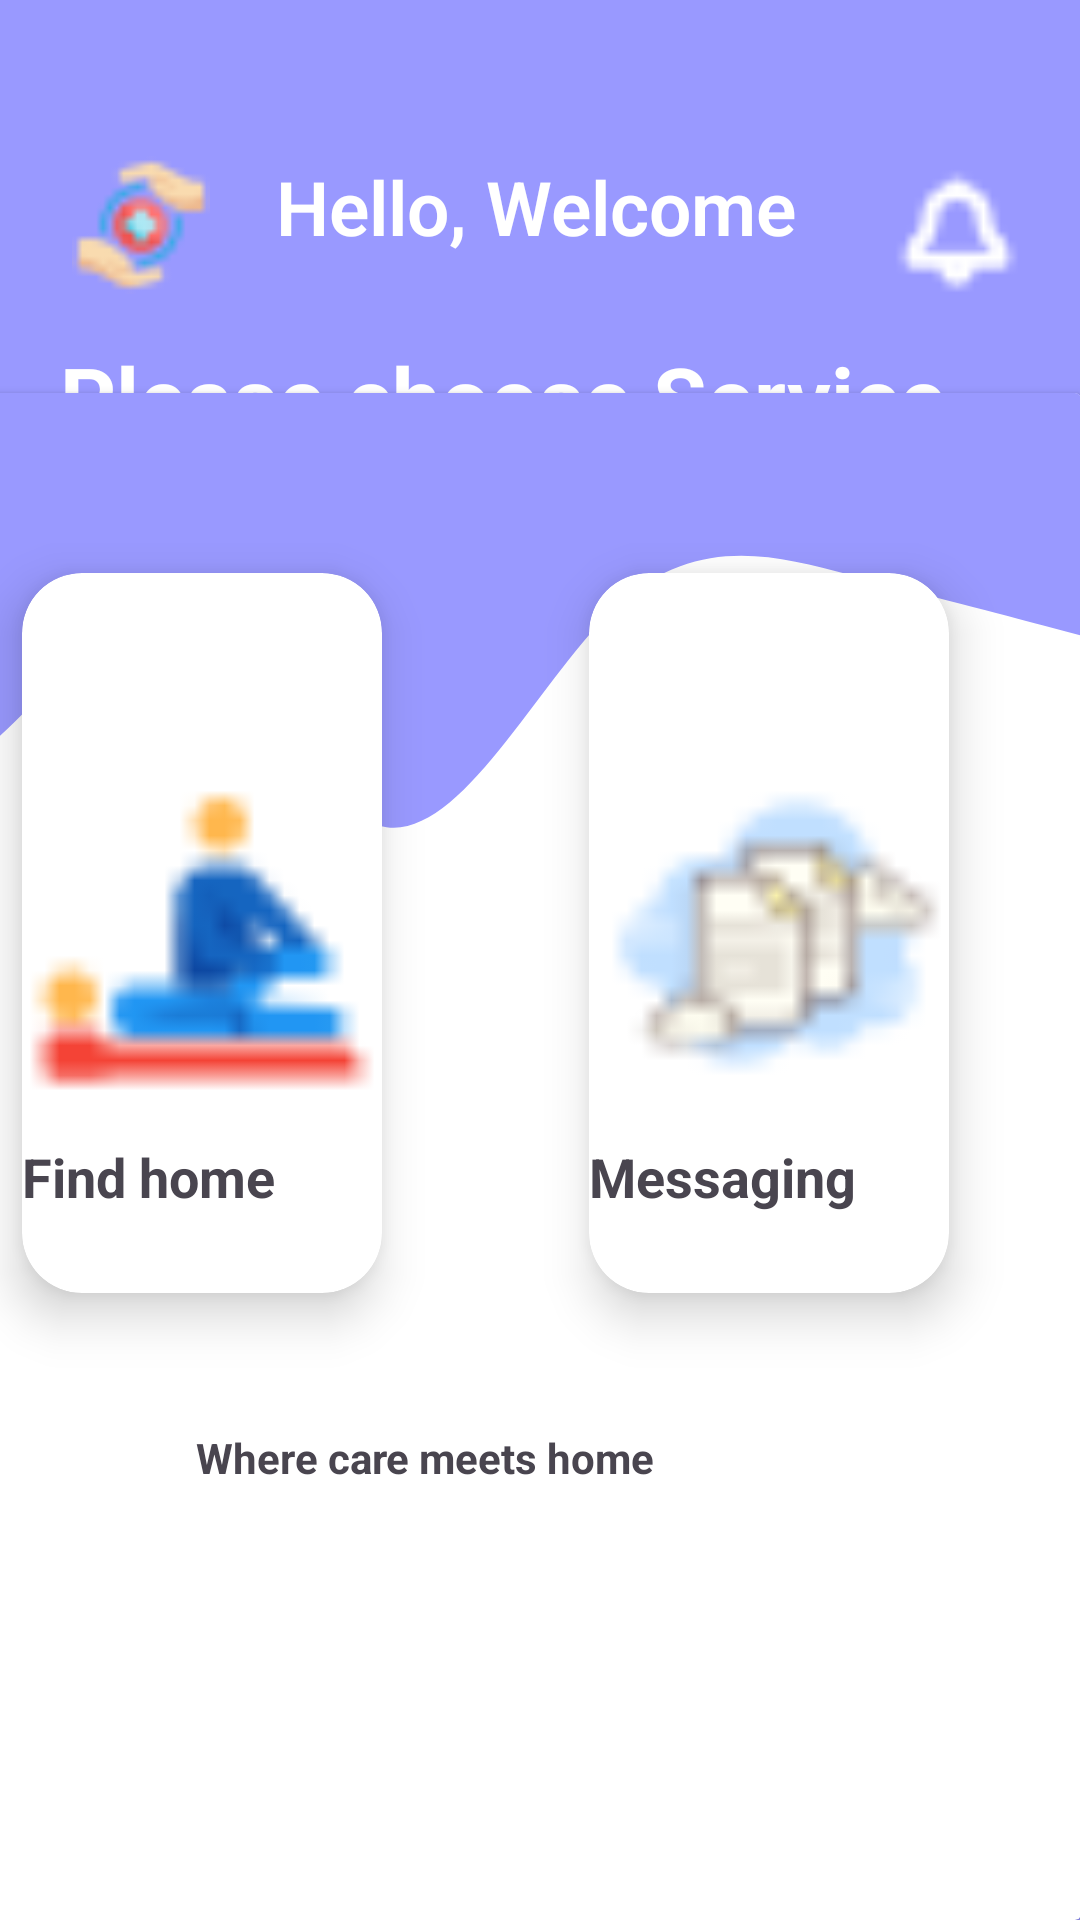

Locate icon controls on the screen. Image size 1080×1920, boxes as (x1, y1, x2, y2).
bell: (901, 176, 1013, 289)
